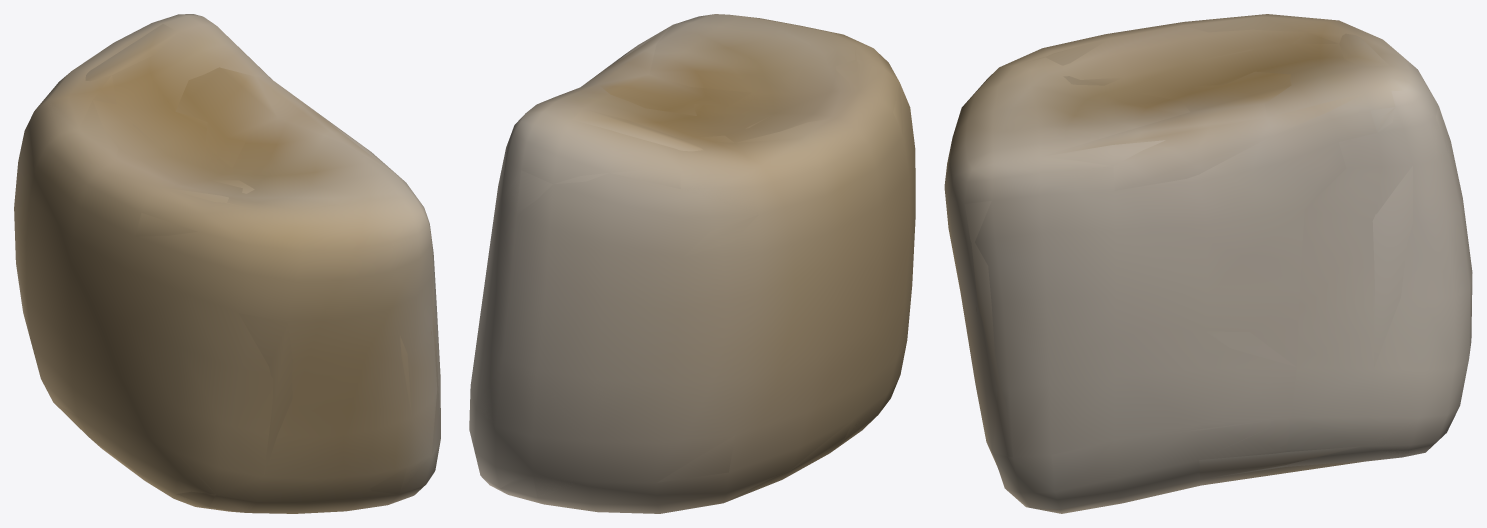
File: L carpi ulnare.fbx
The picture shows the model from 3 angles, left to right: view 1: azimuth 30°, elevation 25°; view 2: azimuth 150°, elevation 25°; view 3: azimuth 270°, elevation 25°; orthographic projection. The views are drawn at different scales.
Parts seen in each view (by area): view 1: L carpi ulnare, L carpi ulnare low; view 2: L carpi ulnare, L carpi ulnare low; view 3: L carpi ulnare, L carpi ulnare low.
Boxes of the visible parts, bbox=[...] form: L carpi ulnare: bbox=[14, 14, 440, 513]; L carpi ulnare low: bbox=[37, 24, 440, 509]; L carpi ulnare: bbox=[469, 14, 915, 513]; L carpi ulnare low: bbox=[481, 24, 903, 513]; L carpi ulnare: bbox=[944, 14, 1472, 513]; L carpi ulnare low: bbox=[945, 14, 1472, 512].
Size of the model in its own units: 0.8795 by 1.06 by 1.23.
